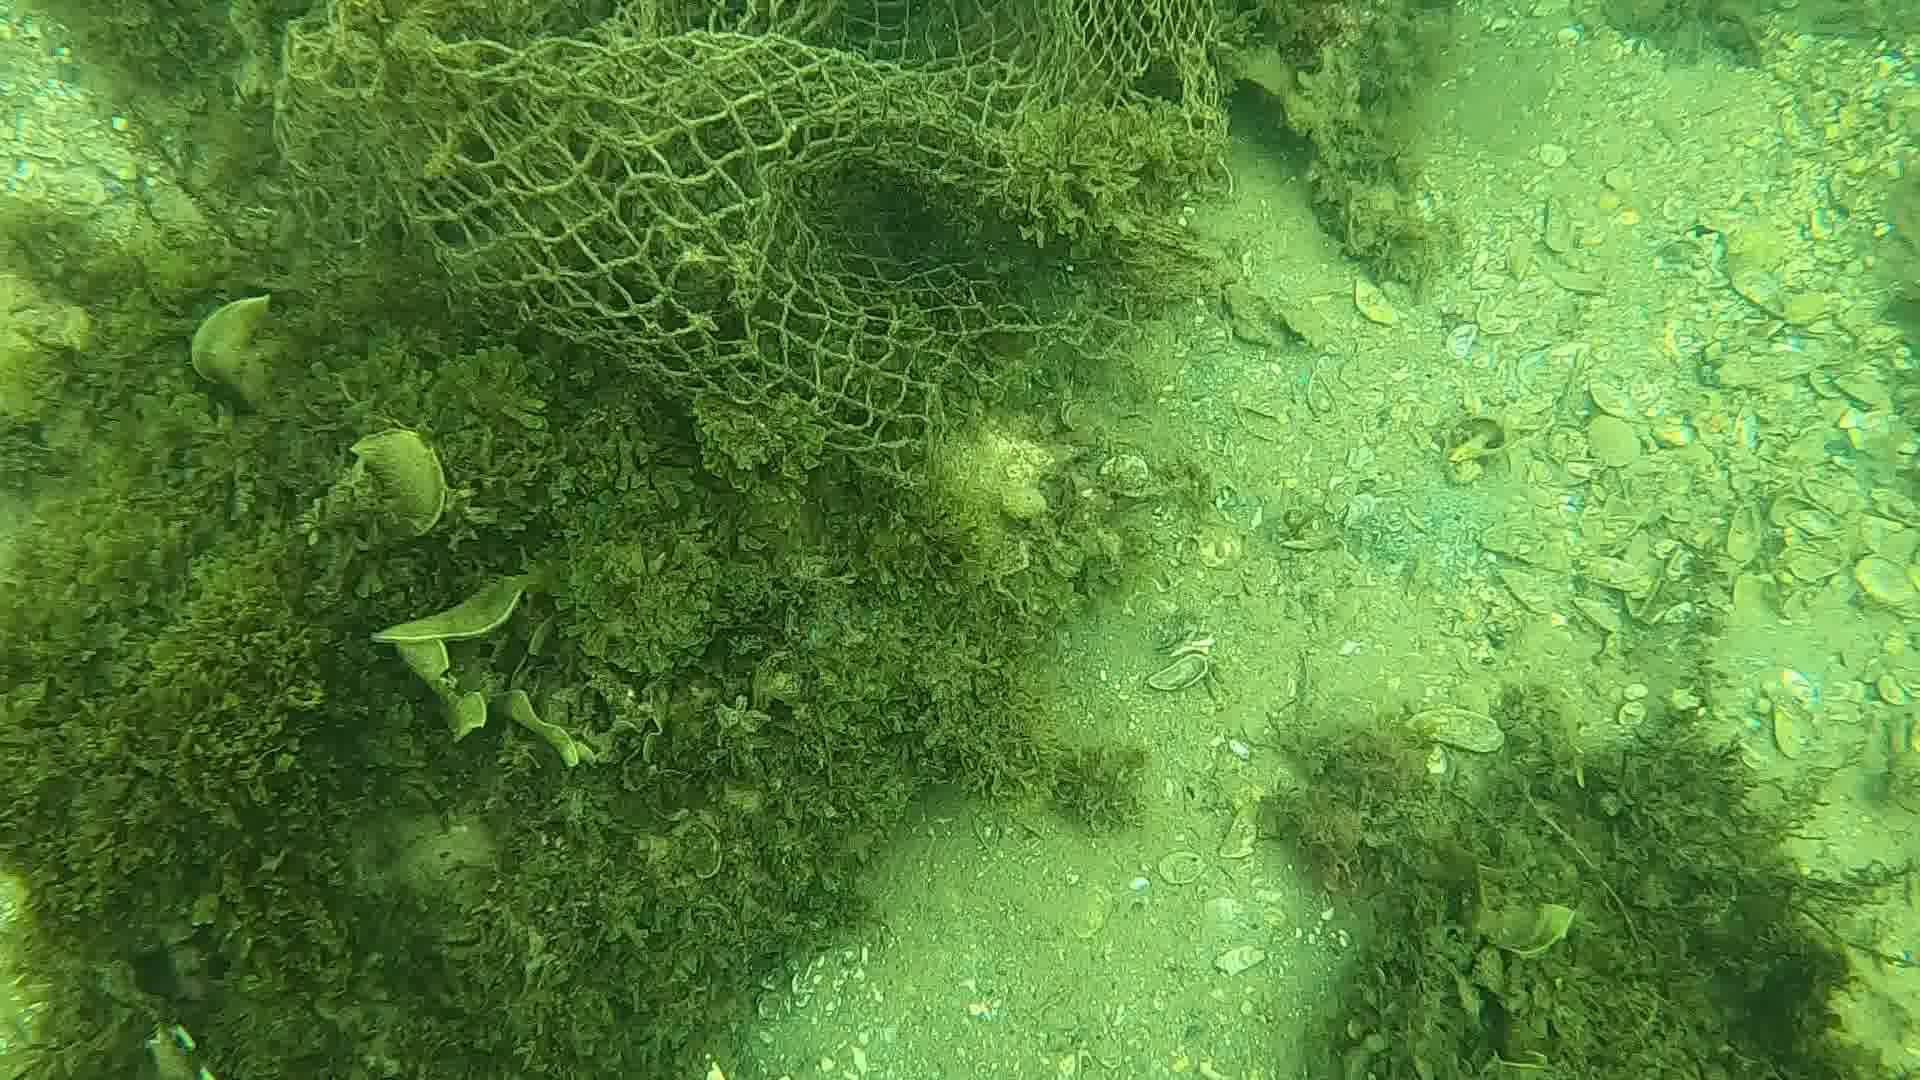fish net: (269, 0, 1224, 483)
